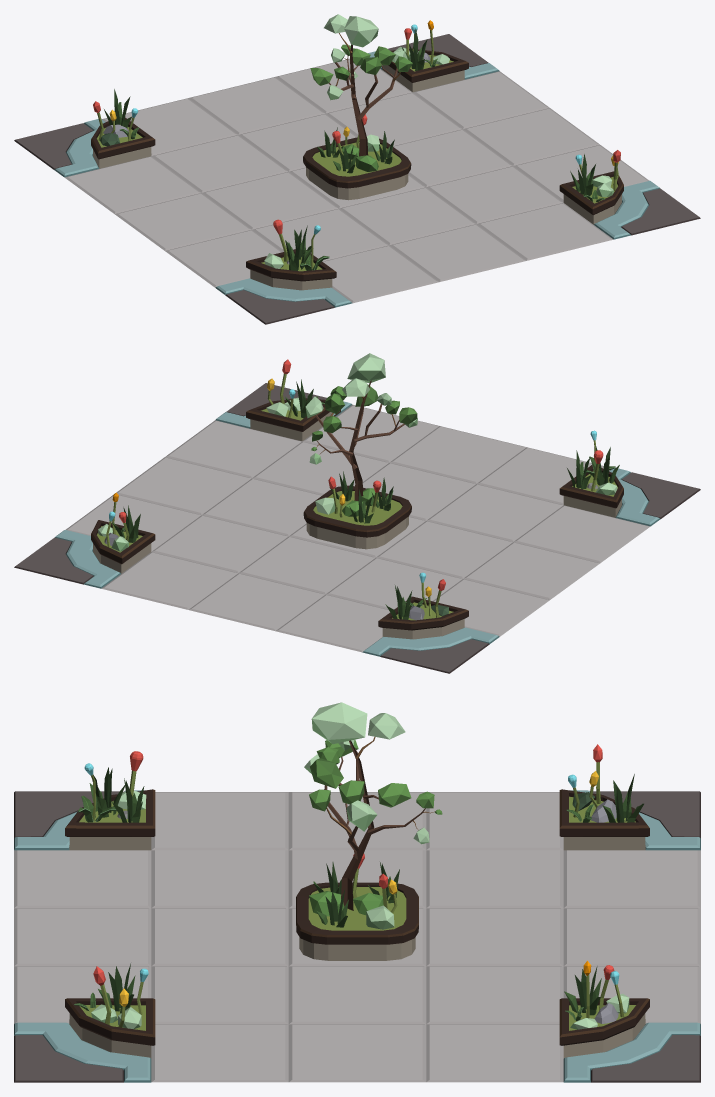
The model's file is Crossroads_D.glb.
3 views of the same model, one above another, from view 1: azimuth 30°, elevation 25°; view 2: azimuth 150°, elevation 25°; view 3: azimuth 270°, elevation 25° (orthographic). The views are drawn at different scales.
Parts seen in each view (by area): view 1: Crossroads_D, Tree_01.014, Cube.229; view 2: Crossroads_D, Tree_01.014, Cube.229; view 3: Crossroads_D, Tree_01.014, Cube.229, Grass_03.544, Grass_03.543, Grass_03.541, Grass_03.542, Flower03.1632, Grass_03.540, Grass_03.538.
Part boxes in pixels (left/top/right/bottom): Crossroads_D: left=14, top=34, right=700, bottom=324; Tree_01.014: left=310, top=14, right=412, bottom=156; Cube.229: left=303, top=137, right=411, bottom=200; Crossroads_D: left=14, top=383, right=700, bottom=673; Tree_01.014: left=305, top=353, right=417, bottom=500; Cube.229: left=303, top=485, right=411, bottom=549; Crossroads_D: left=14, top=789, right=700, bottom=1082; Tree_01.014: left=304, top=702, right=442, bottom=910; Cube.229: left=296, top=882, right=418, bottom=960; Grass_03.544: left=564, top=966, right=601, bottom=1015; Grass_03.543: left=602, top=774, right=643, bottom=822; Grass_03.541: left=89, top=767, right=124, bottom=817; Grass_03.542: left=98, top=963, right=135, bottom=1013; Flower03.1632: left=93, top=966, right=128, bottom=1027; Grass_03.540: left=111, top=778, right=144, bottom=822; Grass_03.538: left=316, top=890, right=348, bottom=927.
Size of what is drawn, in the model's own units: 16 by 5.93 by 16.
2 materials, 2 textured.
